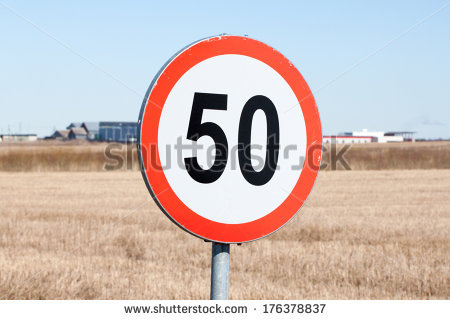Speed_limit_50km: (138, 33, 322, 244)
